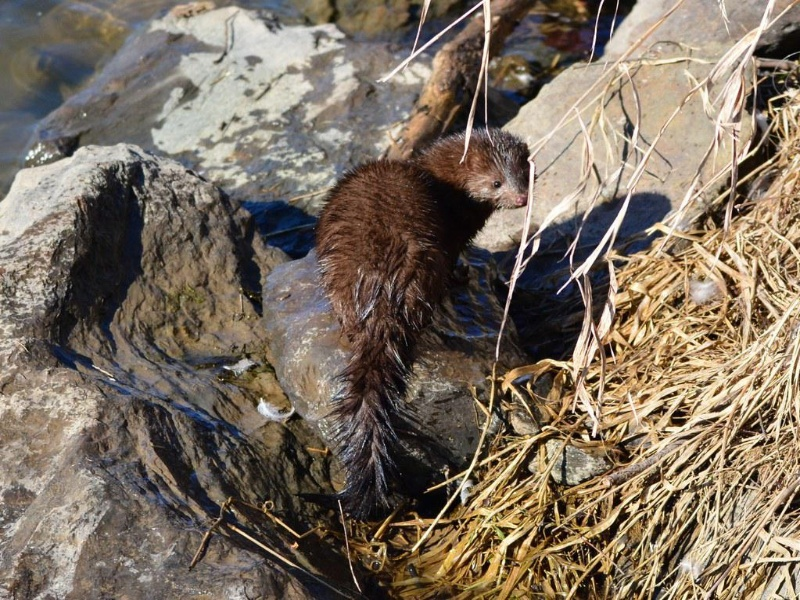minkish: (321, 128, 536, 513)
